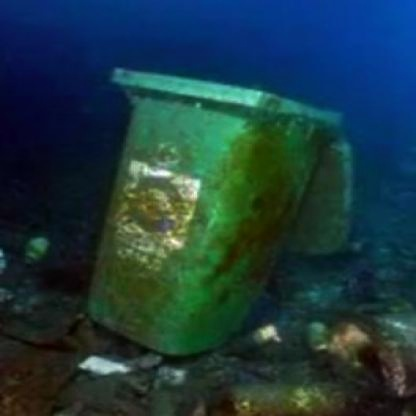misc: (115, 67, 353, 397)
